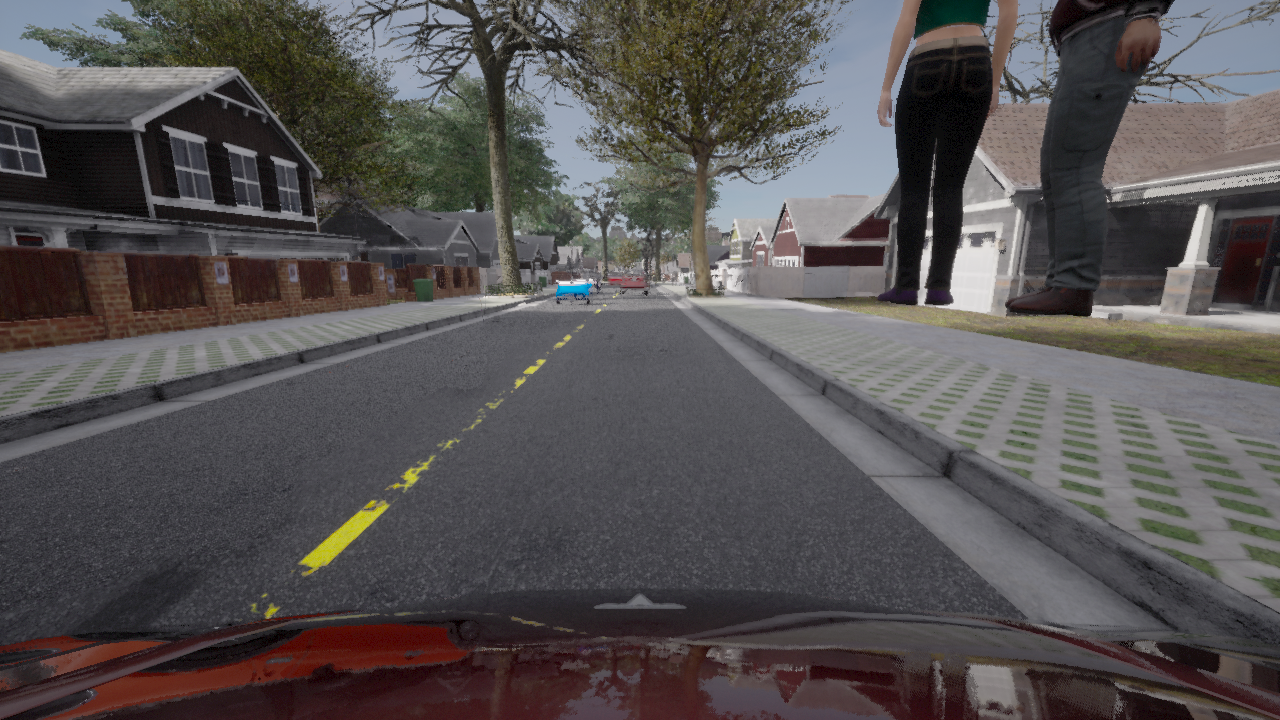cyclist: (0, 588, 1279, 719), (555, 270, 592, 304), (621, 268, 649, 293), (591, 274, 603, 292), (608, 272, 622, 285)
pedestrian: (1005, 0, 1173, 316), (877, 0, 1017, 304)
